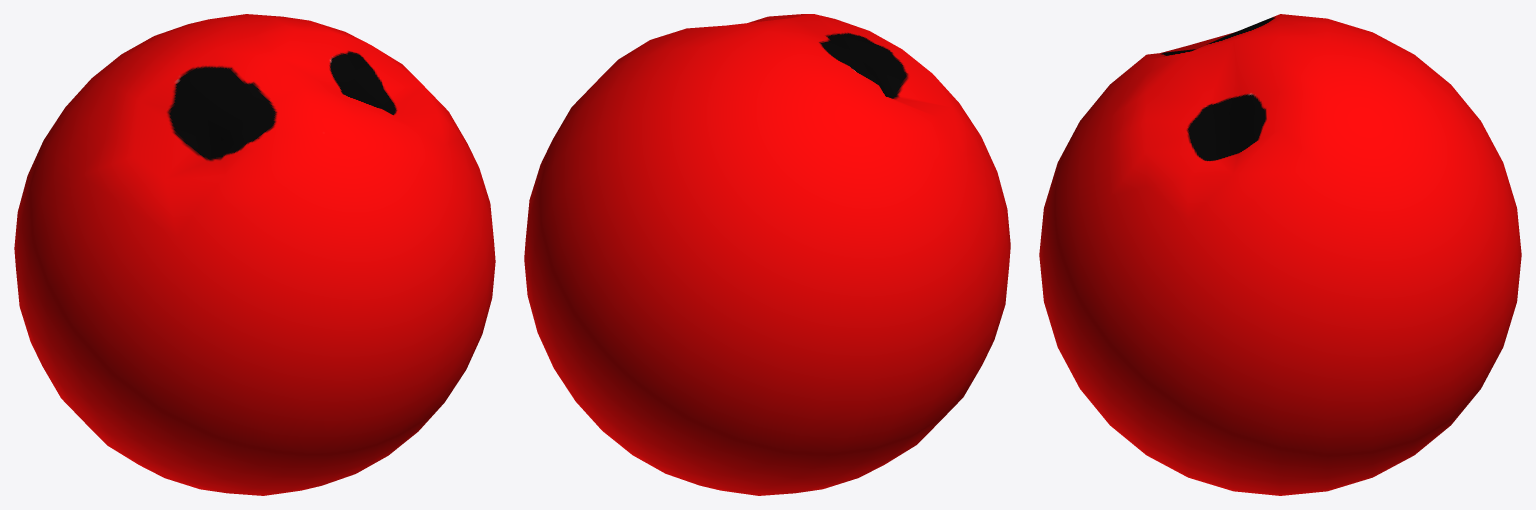
The model's file is enemy.obj.
3 renders of one model, left to right at view 1: azimuth 30°, elevation 25°; view 2: azimuth 150°, elevation 25°; view 3: azimuth 270°, elevation 25°, orthographic.
Visible parts, largest first — view 1: 球; view 2: 球; view 3: 球.
Boxes of the visible parts, <box> form: 球: <box>14,14,495,495</box>; 球: <box>524,14,1010,495</box>; 球: <box>1039,14,1521,495</box>.
Size of the model in its own units: 2 by 2 by 2.
Materials: 1 (1 with a texture image).
